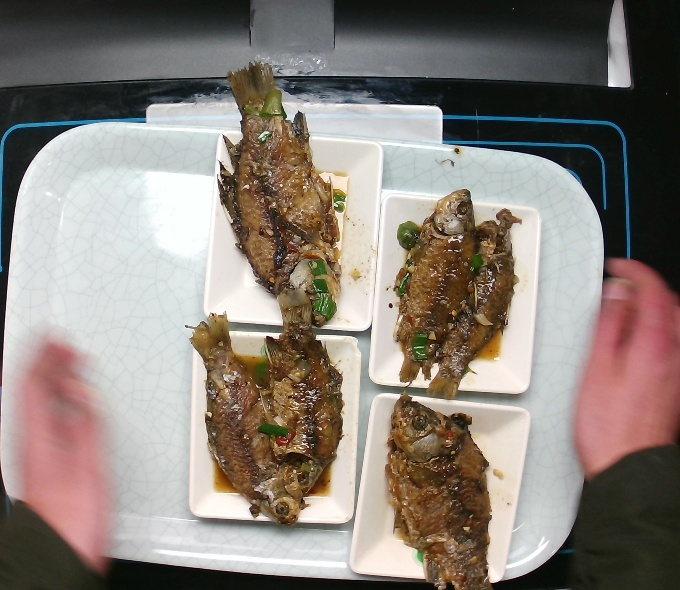wcq-JiYu: (207, 70, 363, 332), (187, 316, 346, 538), (374, 176, 528, 396), (361, 399, 511, 590)
